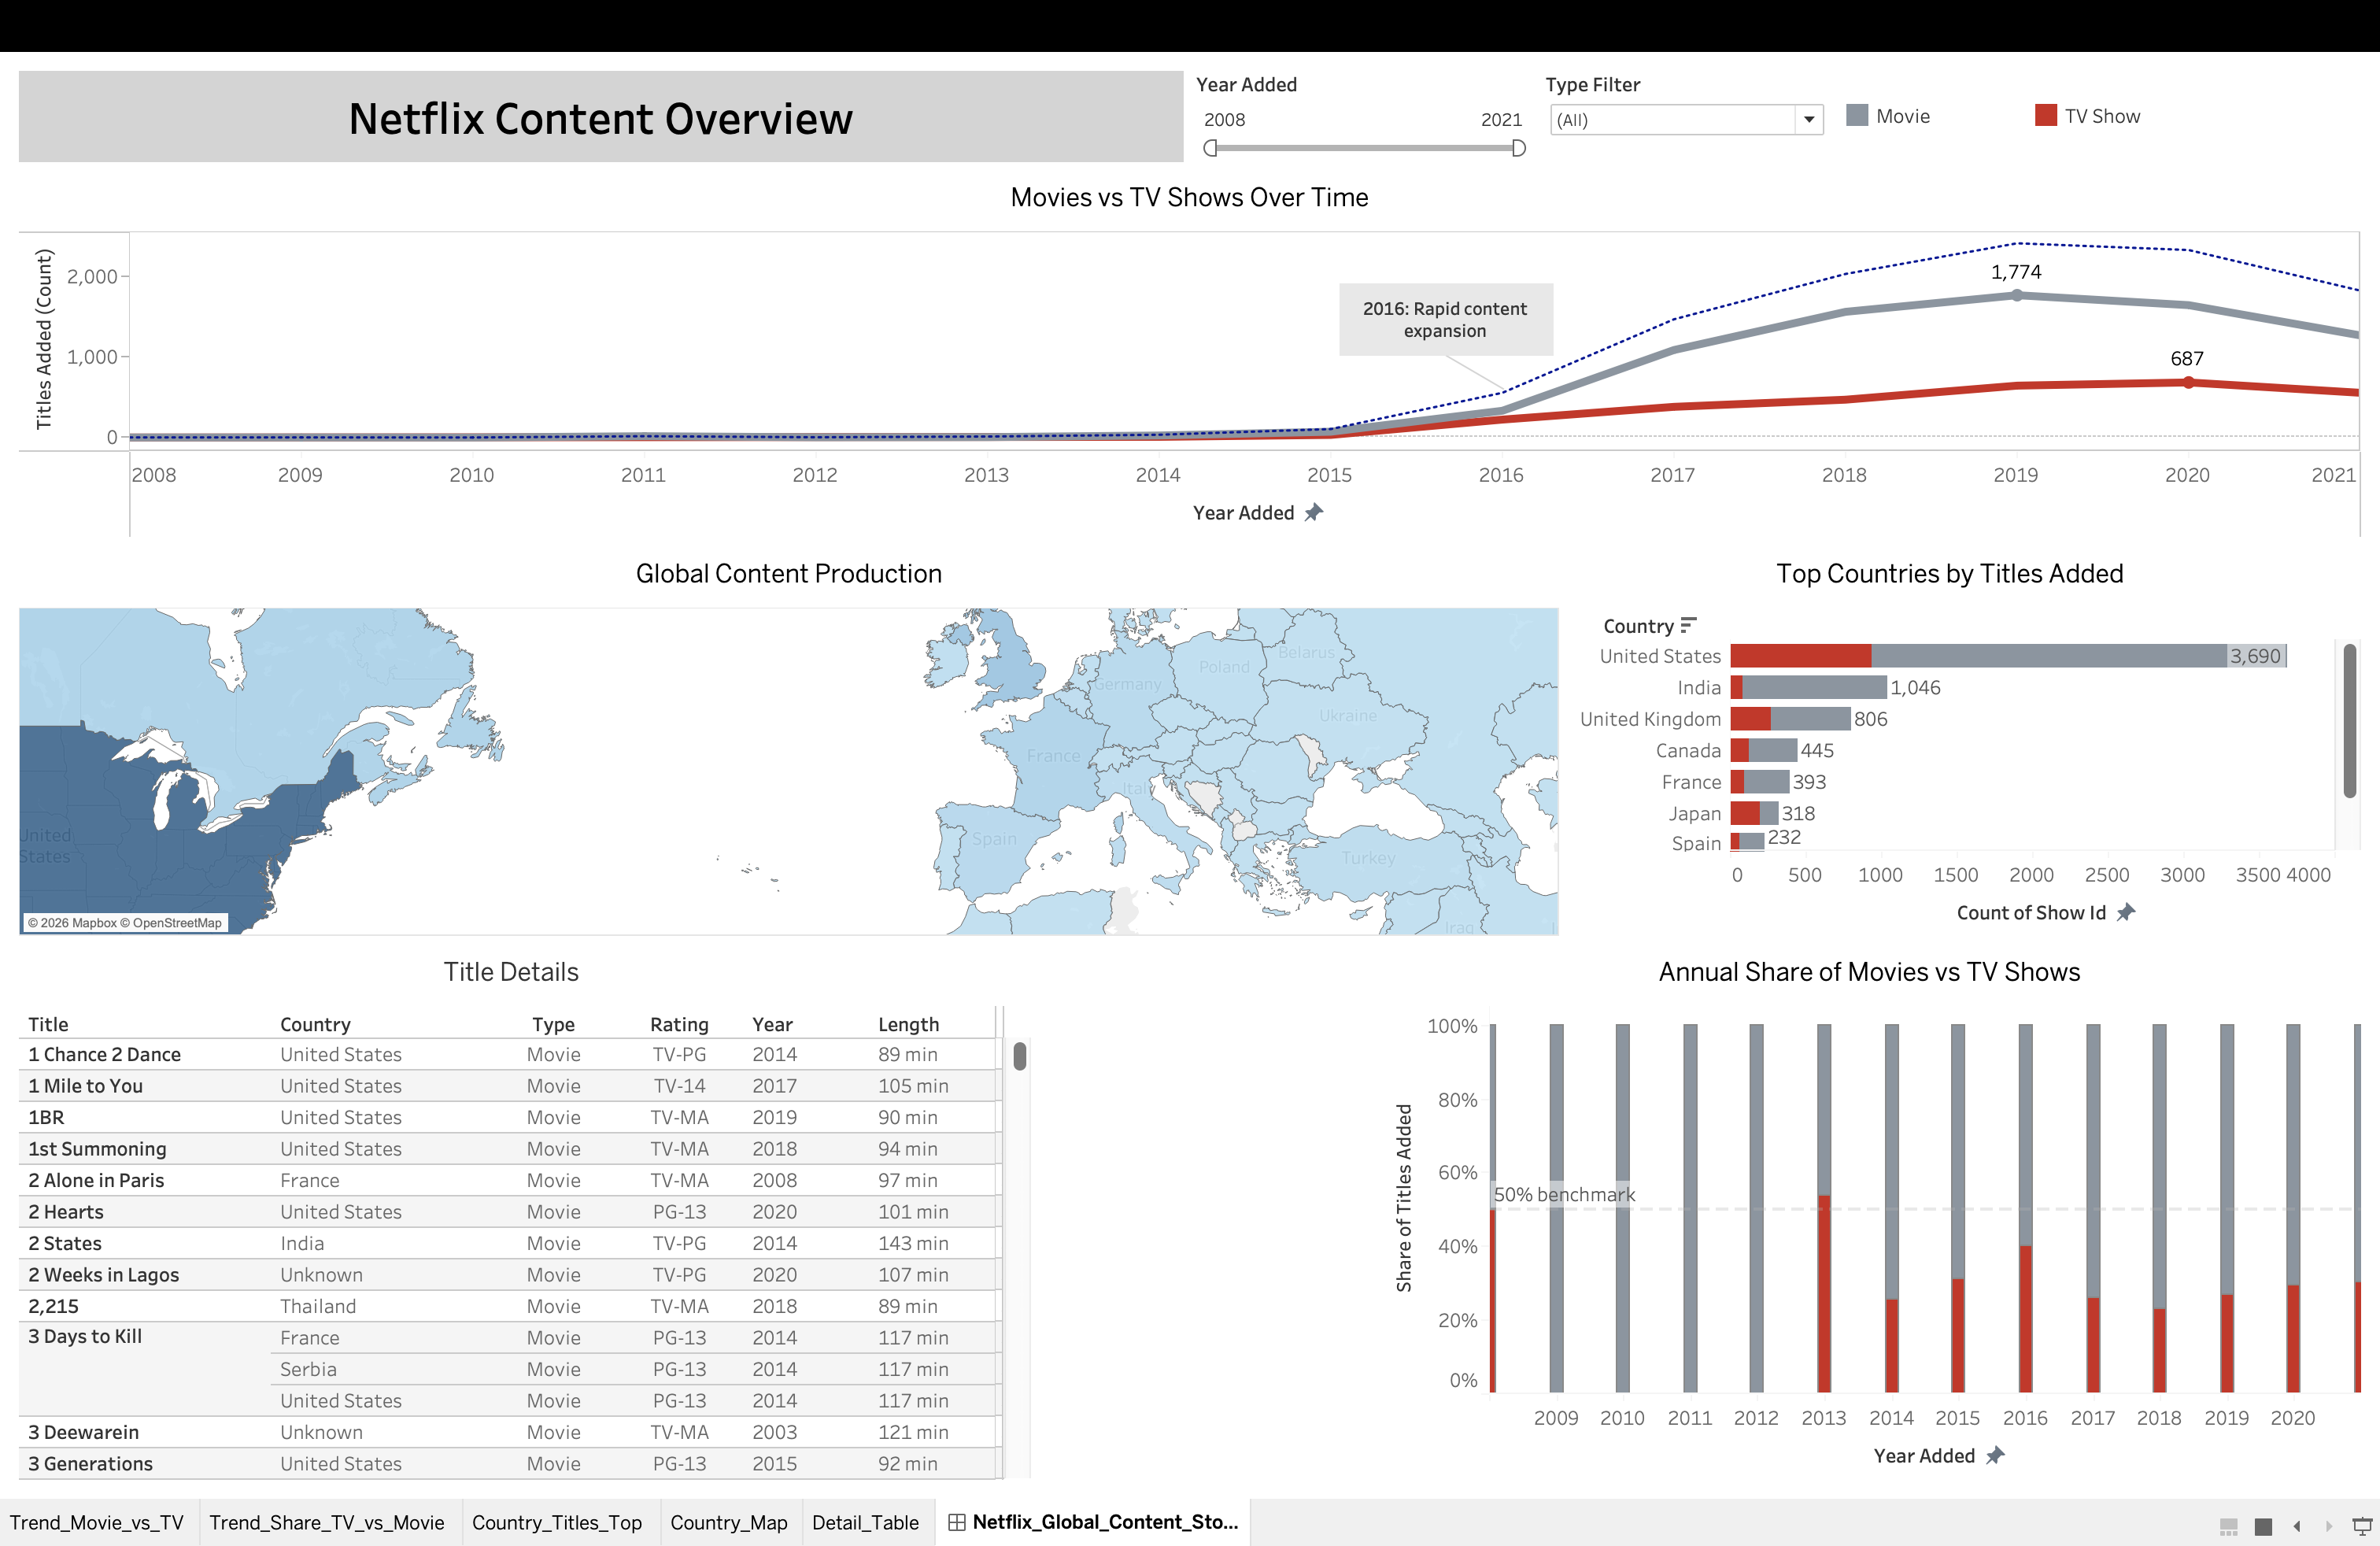

This screenshot's page, from the dashboard's own definition file:
{"tool":"tableau","page":{"name":"Netflix_Global_Content_Story","canvas":[1000,1000],"units":"permille","ordinal":0},"visuals":[{"type":"text","box":[5.4,9.3,494.6,72.1]},{"type":"filter","title":"Detail_Table","param":"[federated.0nd2m2b1etti431blr94m1ns1vva].[none:year_added:qk]","box":[499.9,9.3,147,72.1]},{"type":"filter","title":"Country_Map","param":"[federated.0nd2m2b1etti431blr94m1ns1vva].[none:type:nk]","box":[647,9.3,124.5,72.1]},{"type":"legend","title":"Trend_Movie_vs_TV","param":"[federated.0nd2m2b1etti431blr94m1ns1vva].[none:type:nk]","box":[771.5,9.3,223.2,72.1]},{"type":"worksheet","title":"Trend_Movie_vs_TV","mark":"Line","rows":["show_id","show_id"],"cols":["year_added"],"box":[5.4,81.5,989.2,259.2]},{"type":"worksheet","title":"Country_Map","mark":"Automatic","box":[5.4,340.7,652.4,274.8]},{"type":"worksheet","title":"Country_Titles_Top","mark":"Automatic","rows":["country"],"cols":["show_id"],"box":[657.8,340.7,336.8,274.8]},{"type":"worksheet","title":"Detail_Table","mark":"Text","rows":["title","country","type","rating","release_year","Calculation_0121953295888398"],"box":[5.4,615.4,571.4,375.2]},{"type":"worksheet","title":"Trend_Share_TV_vs_Movie","mark":"Bar","cols":["year_added"],"box":[576.8,615.4,417.8,375.2]}]}

Visuals, with their boxes on the dashboard's canvas, which has no fixed pixel size, in thousandths of its width and height (x1, y1, x2, y2). These are canvas units, not pixel positions in the 2380x1546 screenshot, which may show the page scaled, cropped or inside an application window:
text: {"left": 5, "top": 9, "right": 500, "bottom": 81}
"Detail_Table" filter: {"left": 500, "top": 9, "right": 647, "bottom": 81}
"Country_Map" filter: {"left": 647, "top": 9, "right": 772, "bottom": 81}
"Trend_Movie_vs_TV" legend: {"left": 772, "top": 9, "right": 995, "bottom": 81}
"Trend_Movie_vs_TV" worksheet (Line marks): {"left": 5, "top": 82, "right": 995, "bottom": 341}
"Country_Map" worksheet: {"left": 5, "top": 341, "right": 658, "bottom": 616}
"Country_Titles_Top" worksheet: {"left": 658, "top": 341, "right": 995, "bottom": 616}
"Detail_Table" worksheet (Text marks): {"left": 5, "top": 615, "right": 577, "bottom": 991}
"Trend_Share_TV_vs_Movie" worksheet (Bar marks): {"left": 577, "top": 615, "right": 995, "bottom": 991}
